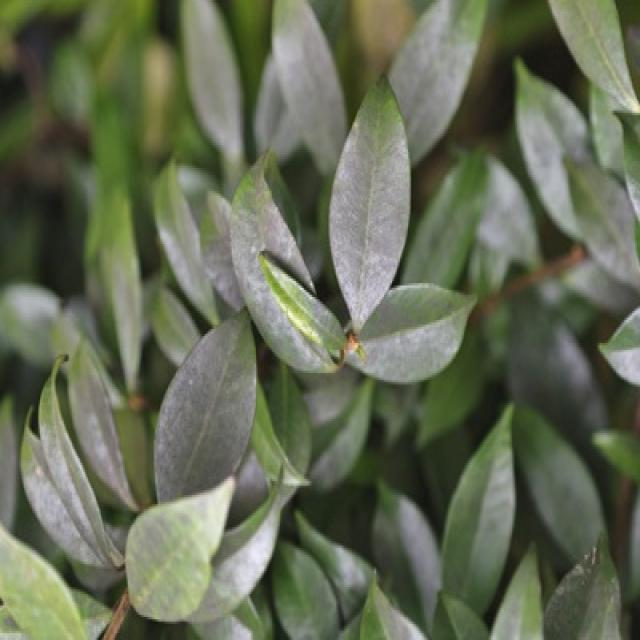Sooty Mold: (156, 4, 433, 493)
